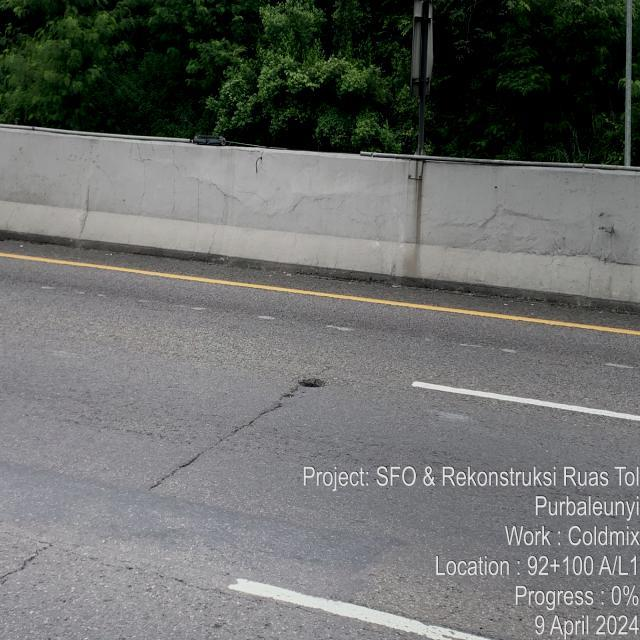Buraco: (293, 376, 331, 390)
